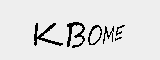В: (67, 19, 84, 51)
Е: (113, 22, 127, 43)
К: (32, 22, 63, 49)
М: (102, 24, 116, 46)
О: (88, 24, 105, 49)
